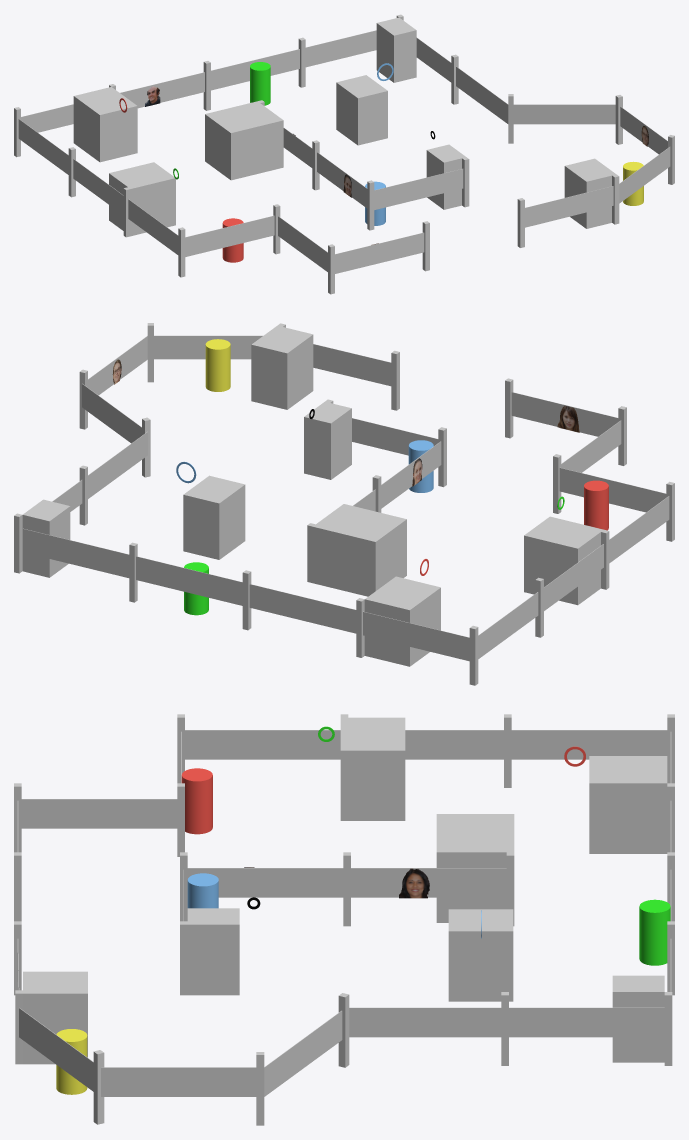
The model's file is rins_task2.dae.
3 renders of one model, top to bottom at view 1: azimuth 30°, elevation 25°; view 2: azimuth 150°, elevation 25°; view 3: azimuth 270°, elevation 25°, orthographic. The views are drawn at different scales.
Parts seen in each view (by area): view 1: Mesh44_Group44_Model_001, Mesh45_Group45_Model_001, Mesh47_Group47_Model_001, Mesh48_Group48_Model_001, Mesh1_Group2_Group1_Model_001, Mesh49_Group49_Model_001, Mesh23_Group24_Group23_Model_001, Mesh11_Group12_Group11_Model_001, Mesh17_Group18_Group17_Model_001, Mesh27_Group28_Group27_Model_001, Mesh43_Group43_Model_001, Mesh39_Group40_Group39_Model_001 (+17 smaller); view 2: Mesh44_Group44_Model_001, Mesh43_Group43_Model_001, Mesh47_Group47_Model_001, Mesh48_Group48_Model_001, Mesh45_Group45_Model_001, Mesh46_Group46_Model_001, Mesh5_Group6_Group5_Model_001, Mesh39_Group40_Group39_Model_001, Mesh41_Group42_Group41_Model_001, Mesh37_Group38_Group37_Model_001, Mesh17_Group18_Group17_Model_001, Mesh13_Group14_Group13_Model_001 (+18 smaller); view 3: Mesh45_Group45_Model_001, Mesh48_Group48_Model_001, Mesh47_Group47_Model_001, Mesh33_Group34_Group33_Model_001, Mesh9_Group10_Group9_Model_001, Mesh3_Group4_Group3_Model_001, Mesh7_Group8_Group7_Model_001, Mesh44_Group44_Model_001, Mesh29_Group30_Group29_Model_001, Mesh35_Group36_Group35_Model_001, Mesh46_Group46_Model_001, Mesh15_Group16_Group15_Model_001 (+14 smaller).
Part boxes in pixels (x1,y1,x2,y2): Mesh44_Group44_Model_001: (205,101,283,180); Mesh45_Group45_Model_001: (73,87,137,162); Mesh47_Group47_Model_001: (336,75,387,145); Mesh48_Group48_Model_001: (109,162,175,236); Mesh1_Group2_Group1_Model_001: (508,94,615,143); Mesh49_Group49_Model_001: (376,17,416,82); Mesh23_Group24_Group23_Model_001: (374,157,469,209); Mesh11_Group12_Group11_Model_001: (525,174,619,227); Mesh17_Group18_Group17_Model_001: (335,221,429,273); Mesh27_Group28_Group27_Model_001: (185,204,280,256); Mesh43_Group43_Model_001: (564,158,616,228); Mesh39_Group40_Group39_Model_001: (203,49,299,110); Mesh44_Group44_Model_001: (312,504,406,596); Mesh43_Group43_Model_001: (251,325,313,409); Mesh47_Group47_Model_001: (183,475,245,559); Mesh48_Group48_Model_001: (524,516,603,605); Mesh45_Group45_Model_001: (364,576,440,666); Mesh46_Group46_Model_001: (304,402,351,479); Mesh5_Group6_Group5_Model_001: (363,611,478,685); Mesh39_Group40_Group39_Model_001: (136,556,251,630); Mesh41_Group42_Group41_Model_001: (22,528,137,602); Mesh37_Group38_Group37_Model_001: (249,584,364,657); Mesh17_Group18_Group17_Model_001: (505,378,618,438); Mesh13_Group14_Group13_Model_001: (147,323,262,382); Mesh45_Group45_Model_001: (589,756,667,853); Mesh48_Group48_Model_001: (340,717,405,820); Mesh47_Group47_Model_001: (448,909,513,1001); Mesh33_Group34_Group33_Model_001: (509,992,672,1065); Mesh9_Group10_Group9_Model_001: (101,1052,264,1125); Mesh3_Group4_Group3_Model_001: (349,992,508,1065); Mesh7_Group8_Group7_Model_001: (14,783,177,852); Mesh44_Group44_Model_001: (436,814,514,922); Mesh29_Group30_Group29_Model_001: (177,714,340,783); Mesh35_Group36_Group35_Model_001: (504,714,667,787); Mesh46_Group46_Model_001: (187,908,239,995); Mesh15_Group16_Group15_Model_001: (343,852,506,926).
Bounding box in the file's own units: 6.22 × 5.1 × 0.8198.
Materials: 11 (5 with a texture image).
